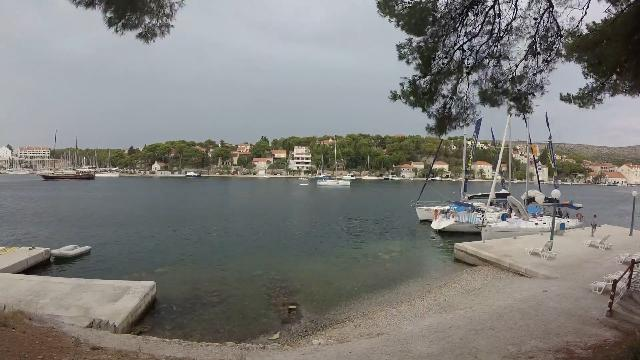Freighter: (31, 164, 103, 184)
Sailboat: (309, 170, 355, 190)
